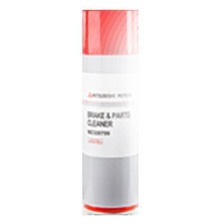aerosol_cans: (78, 7, 141, 215)
